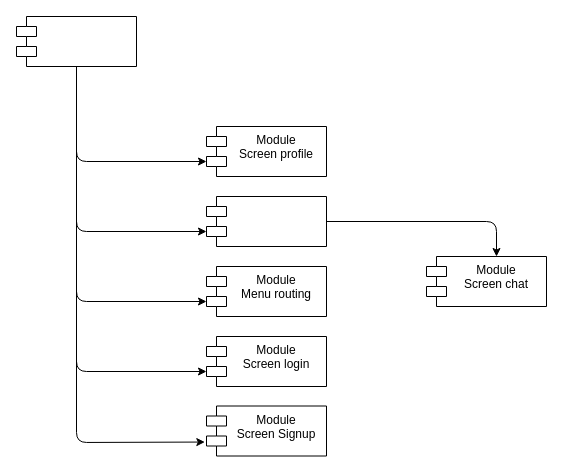
Some shapes in this 563 by 472 pixel diagram are drawn without their labels. Each missing label, with the centre of its shape:
"App Mobile" goes at (x=76, y=41).
"Module Screen Home" goes at (x=266, y=221).
